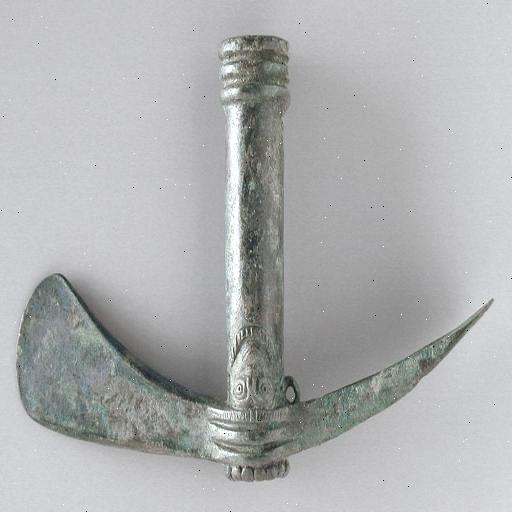Axe: (16, 35, 496, 483)
